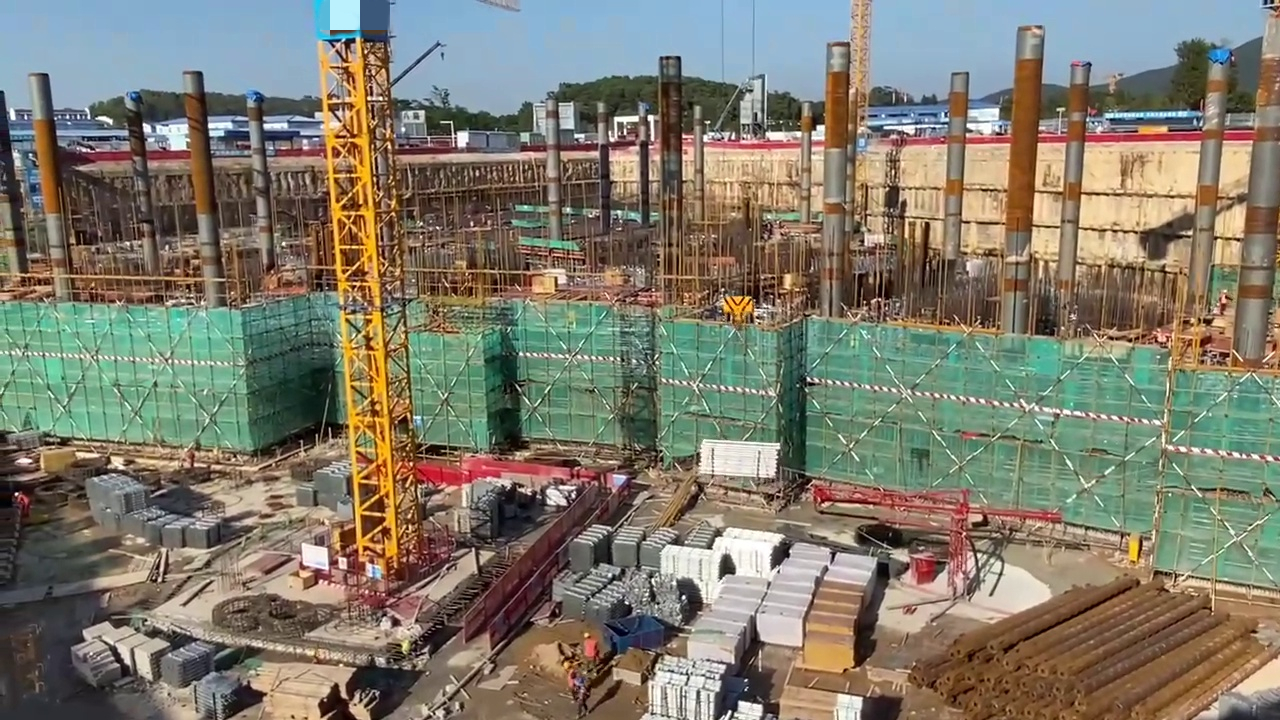board: (806, 581, 861, 664)
fence: (458, 451, 593, 493)
hook: (722, 293, 757, 317)
rebar: (910, 575, 1267, 720)
scaffold: (566, 570, 687, 621), (570, 523, 666, 572), (648, 659, 723, 720), (130, 504, 220, 544), (699, 439, 784, 479), (88, 475, 144, 531), (662, 544, 718, 598), (717, 526, 782, 570), (159, 641, 212, 689), (195, 674, 243, 714), (316, 463, 350, 508)
